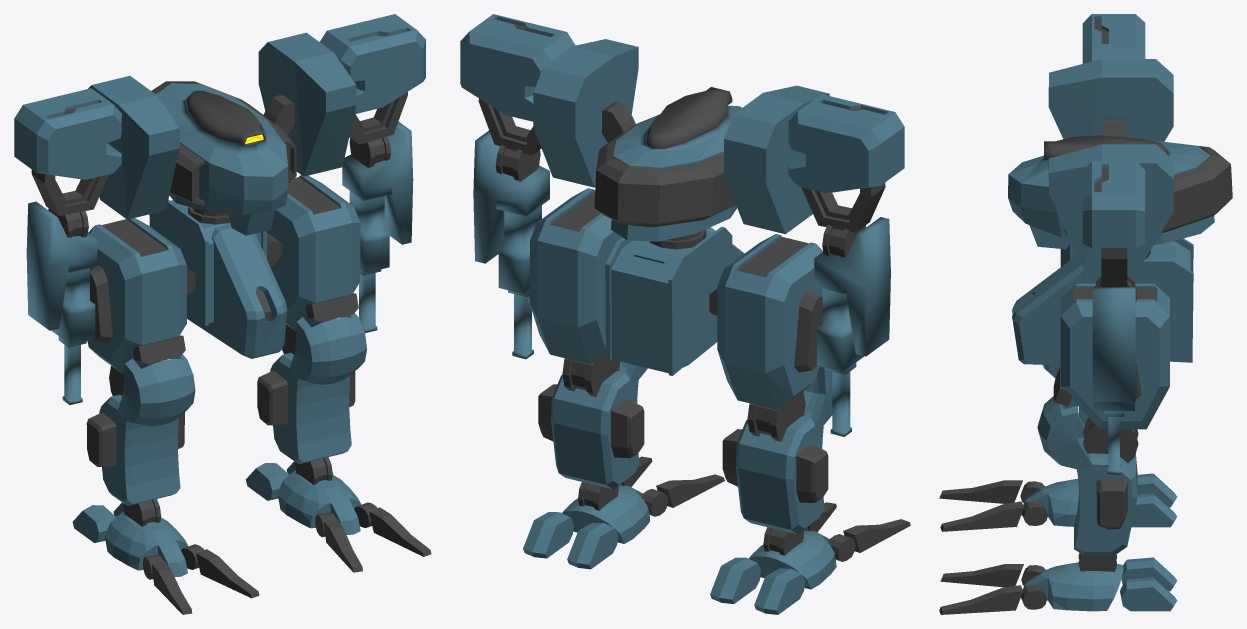
The model's file is mech.fbx.
3 views of the same model, side by side, from view 1: azimuth 30°, elevation 25°; view 2: azimuth 150°, elevation 25°; view 3: azimuth 270°, elevation 25° (orthographic). The views are drawn at different scales.
Visible parts, largest first — view 1: L_leg_DOWN, R_leg_DOWN, L_hand_UP, R_hand_UP, UP_body, DOWN_body, L_leg_UP, R_leg_UP, L_hand_DOWN, R_hand_DOWN; view 2: L_leg_DOWN, L_hand_UP, R_leg_DOWN, R_hand_UP, UP_body, L_leg_UP, DOWN_body, R_leg_UP, L_hand_DOWN, R_hand_DOWN; view 3: R_leg_DOWN, R_hand_UP, L_hand_UP, UP_body, R_leg_UP, DOWN_body, L_leg_DOWN, R_hand_DOWN.
Part boxes in pixels (bbox=[...]): L_leg_DOWN: bbox=[72, 354, 259, 614]; R_leg_DOWN: bbox=[245, 313, 431, 572]; L_hand_UP: bbox=[14, 75, 179, 219]; R_hand_UP: bbox=[258, 14, 425, 176]; UP_body: bbox=[151, 81, 296, 235]; DOWN_body: bbox=[149, 199, 287, 358]; L_leg_UP: bbox=[87, 218, 186, 373]; R_leg_UP: bbox=[267, 175, 360, 330]; L_hand_DOWN: bbox=[26, 201, 97, 404]; R_hand_DOWN: bbox=[342, 121, 413, 332]; L_leg_DOWN: bbox=[710, 366, 910, 614]; L_hand_UP: bbox=[724, 85, 904, 234]; R_leg_DOWN: bbox=[523, 353, 724, 569]; R_hand_UP: bbox=[460, 14, 638, 187]; UP_body: bbox=[594, 87, 741, 241]; L_leg_UP: bbox=[717, 234, 822, 409]; DOWN_body: bbox=[605, 226, 744, 375]; R_leg_UP: bbox=[529, 188, 622, 364]; L_hand_DOWN: bbox=[814, 217, 890, 436]; R_hand_DOWN: bbox=[473, 130, 549, 359]; R_leg_DOWN: bbox=[939, 396, 1177, 614]; R_hand_UP: bbox=[1048, 144, 1173, 287]; L_hand_UP: bbox=[1048, 14, 1173, 141]; UP_body: bbox=[1008, 118, 1232, 249]; R_leg_UP: bbox=[1053, 283, 1169, 429]; DOWN_body: bbox=[1012, 238, 1193, 365]; L_leg_DOWN: bbox=[939, 365, 1177, 531]; R_hand_DOWN: bbox=[1092, 274, 1136, 474].
Size of the model in its own units: 21.97 by 24.49 by 14.45.
